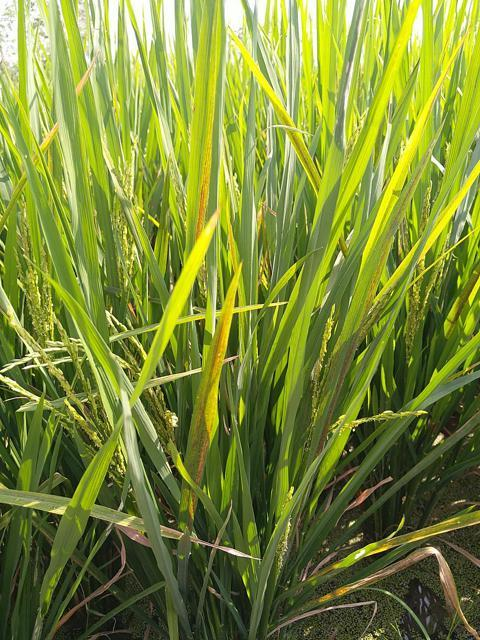Leaf Streak: (316, 152, 428, 458), (184, 299, 232, 489), (196, 80, 217, 239), (184, 490, 197, 559)
